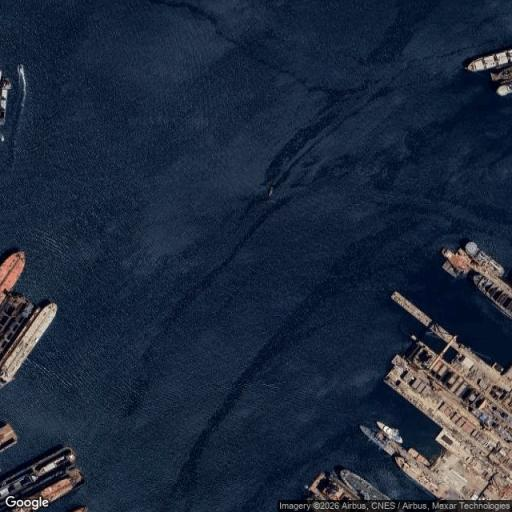ship: (0, 302, 60, 386), (4, 468, 85, 511), (394, 457, 447, 499), (473, 276, 511, 317), (0, 252, 28, 307), (340, 470, 392, 499), (465, 241, 506, 275), (360, 426, 396, 457), (466, 49, 511, 70), (442, 248, 471, 275), (0, 76, 12, 128), (377, 422, 403, 444), (408, 450, 431, 466), (18, 64, 25, 107), (494, 82, 511, 95)
